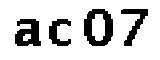0: (80, 5, 116, 50)
7: (120, 6, 150, 50)
a: (9, 15, 43, 51)
c: (46, 18, 74, 50)
